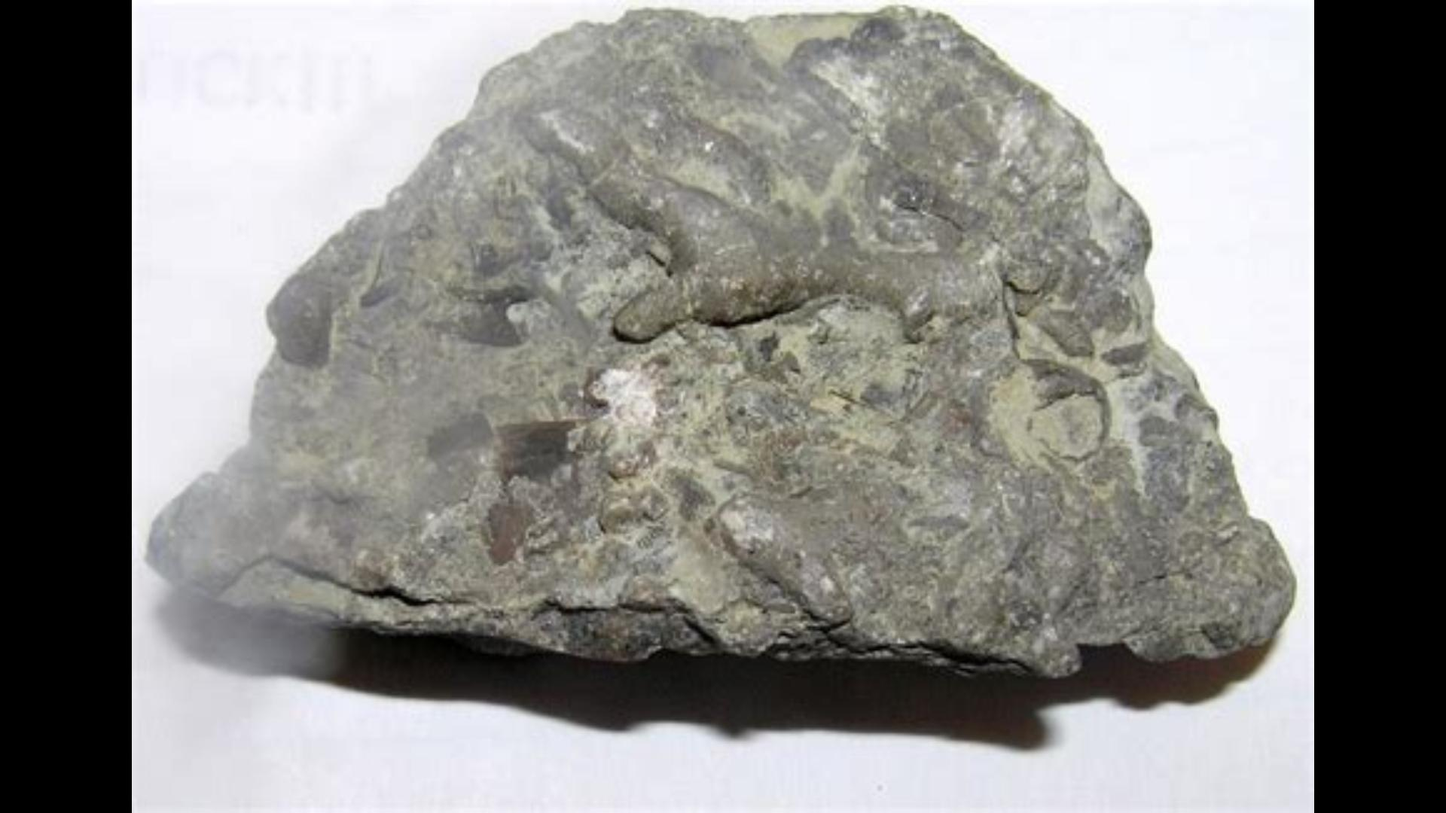rock: (149, 10, 1292, 671)
